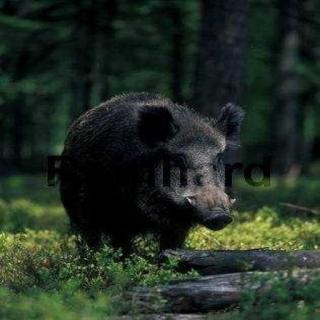Pig: (38, 81, 247, 265)
